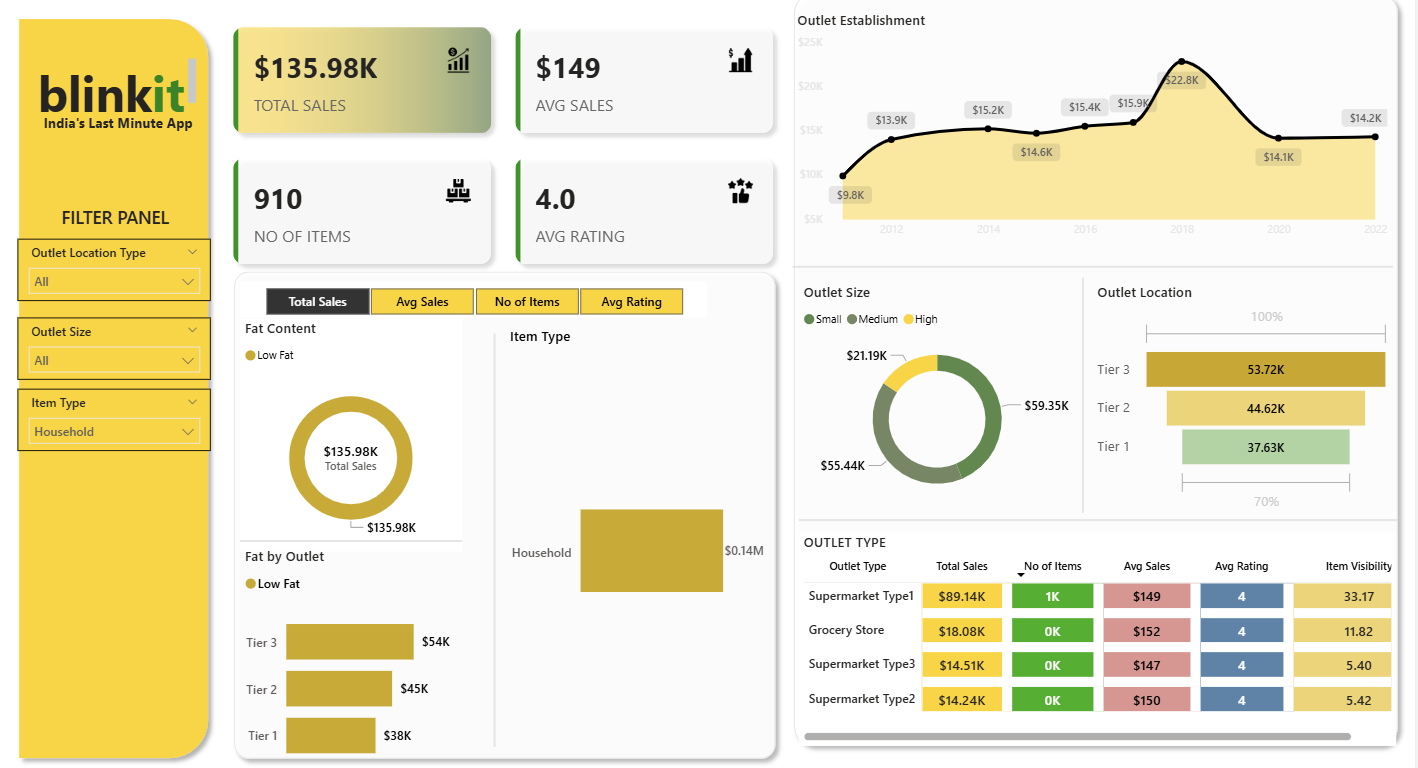

Layout of this report page (visuals, bound fields, positions):
{"tool":"powerbi","page":{"name":"Page 1","canvas":[1400,800],"ordinal":0},"visuals":[{"type":"shape","box":[9.4,24.1,205.1,749.3],"z":0},{"type":"textbox","box":[261.4,693,205.1,92.5],"z":1000},{"type":"textbox","box":[28.2,68.4,170.2,63],"z":2000},{"type":"textbox","box":[38.9,122,175.6,40.2],"z":3000},{"type":"cardVisual","fields":{"Data":["BlinkIT Grocery Data.Total Sales","BlinkIT Grocery Data.Avg Sales","BlinkIT Grocery Data.No of Items","BlinkIT Grocery Data.Avg Rating"]},"box":[214.5,24.1,569.7,269.4],"z":4000},{"type":"shape","box":[222.5,274.8,553.6,500],"z":5000},{"type":"donutChart","title":"Fat Content","fields":{"Y":["BlinkIT Grocery Data.Total Sales"],"Category":["BlinkIT Grocery Data.Item Fat Content"]},"box":[237.3,329.8,219.8,230.6],"z":6000},{"type":"slicer","fields":{"Values":["Metrics.Metrics"]},"box":[237.3,293.6,462.5,36.2],"z":7000},{"type":"cardVisual","fields":{"Data":["BlinkIT Grocery Data.Total Sales"]},"box":[300.3,426.3,93.8,80.4],"z":8000},{"type":"clusteredBarChart","title":"Fat by Outlet","fields":{"Y":["BlinkIT Grocery Data.Total Sales"],"Category":["BlinkIT Grocery Data.Outlet Location Type"],"Series":["BlinkIT Grocery Data.Item Fat Content"]},"box":[237.3,555,219.8,230.6],"z":9000},{"type":"shape","box":[237.3,545.6,219.8,9.4],"z":10000},{"type":"shape","box":[478.6,344.5,21.4,408.8],"z":11000},{"type":"barChart","title":"Item Type","fields":{"Y":["BlinkIT Grocery Data.Total Sales"],"Category":["BlinkIT Grocery Data.Item Type"]},"box":[500,337.8,261.4,423.6],"z":12000},{"type":"shape","box":[776.1,0,615.3,761.4],"z":12001},{"type":"lineChart","title":"Outlet Establishment","fields":{"Category":["BlinkIT Grocery Data.Outlet Establishment Year"],"Y":["BlinkIT Grocery Data.Total Sales"]},"box":[784.2,24.1,593.8,234.6],"z":12002},{"type":"shape","box":[784.3,274.3,594.3,8.6],"z":12003},{"type":"donutChart","title":"Outlet Size","fields":{"Y":["BlinkIT Grocery Data.Total Sales"],"Category":["BlinkIT Grocery Data.Outlet Size"]},"box":[790,294.3,274.3,225.7],"z":12004},{"type":"shape","box":[1064.3,290,15.7,232.9],"z":12005},{"type":"funnel","title":"Outlet Location","fields":{"Category":["BlinkIT Grocery Data.Outlet Location Type"],"Y":["Sum(BlinkIT Grocery Data.Sales)"]},"box":[1081.4,294.3,300,231.4],"z":12006},{"type":"shape","box":[790,524.3,592.9,10],"z":12007},{"type":"pivotTable","title":"OUTLET TYPE","fields":{"Rows":["BlinkIT Grocery Data.Outlet Type"],"Values":["BlinkIT Grocery Data.Total Sales","BlinkIT Grocery Data.No of Items","BlinkIT Grocery Data.Avg Sales","BlinkIT Grocery Data.Avg Rating","Sum(BlinkIT Grocery Data.Item Visibility)"]},"box":[790,541.4,591.4,211.4],"z":12008},{"type":"slicer","fields":{"Values":["BlinkIT Grocery Data.Outlet Location Type"]},"box":[17.1,251.4,191.4,61.4],"z":12009},{"type":"slicer","fields":{"Values":["BlinkIT Grocery Data.Outlet Size"]},"box":[17.1,328.6,191.4,61.4],"z":12010},{"type":"slicer","fields":{"Values":["BlinkIT Grocery Data.Item Type"]},"box":[17.1,400,191.4,61.4],"z":12011},{"type":"shape","title":"FILTER PANEL","box":[38.6,217.1,151.4,21.4],"z":12012}]}

Visuals, with their boxes on the page's 1400x800 design canvas (x1, y1, x2, y2). These are canvas units, not pixel positions in the 1418x768 screenshot, which may show the page scaled, cropped or inside an application window:
shape: (9, 24, 214, 773)
textbox: (261, 693, 466, 786)
textbox: (28, 68, 198, 131)
textbox: (39, 122, 214, 162)
cardVisual - BlinkIT Grocery Data.Total Sales x BlinkIT Grocery Data.Avg Sales: (214, 24, 784, 294)
shape: (222, 275, 776, 775)
"Fat Content" donutChart: (237, 330, 457, 560)
slicer - Metrics.Metrics: (237, 294, 700, 330)
cardVisual - BlinkIT Grocery Data.Total Sales: (300, 426, 394, 507)
"Fat by Outlet" clusteredBarChart: (237, 555, 457, 786)
shape: (237, 546, 457, 555)
shape: (479, 344, 500, 753)
"Item Type" barChart: (500, 338, 761, 761)
shape: (776, 0, 1391, 761)
"Outlet Establishment" lineChart: (784, 24, 1378, 259)
shape: (784, 274, 1379, 283)
"Outlet Size" donutChart: (790, 294, 1064, 520)
shape: (1064, 290, 1080, 523)
"Outlet Location" funnel: (1081, 294, 1381, 526)
shape: (790, 524, 1383, 534)
"OUTLET TYPE" pivotTable: (790, 541, 1381, 753)
slicer - BlinkIT Grocery Data.Outlet Location Type: (17, 251, 208, 313)
slicer - BlinkIT Grocery Data.Outlet Size: (17, 329, 208, 390)
slicer - BlinkIT Grocery Data.Item Type: (17, 400, 208, 461)
"FILTER PANEL" shape: (39, 217, 190, 238)
